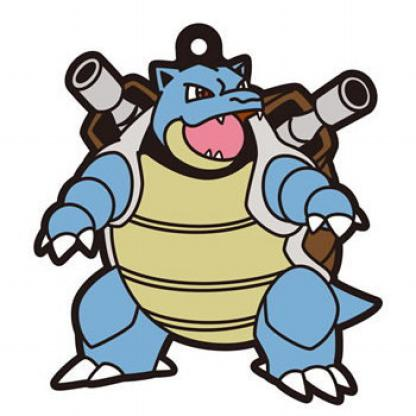Blastoise: (42, 26, 408, 407)
